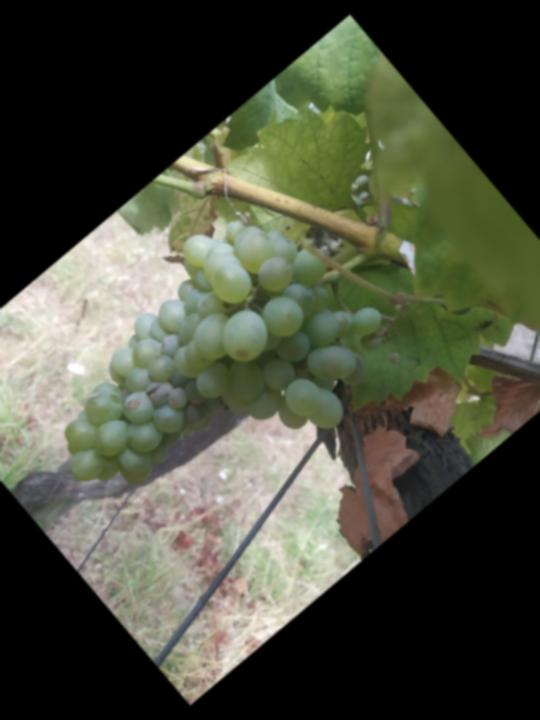grape: (4, 173, 421, 578)
